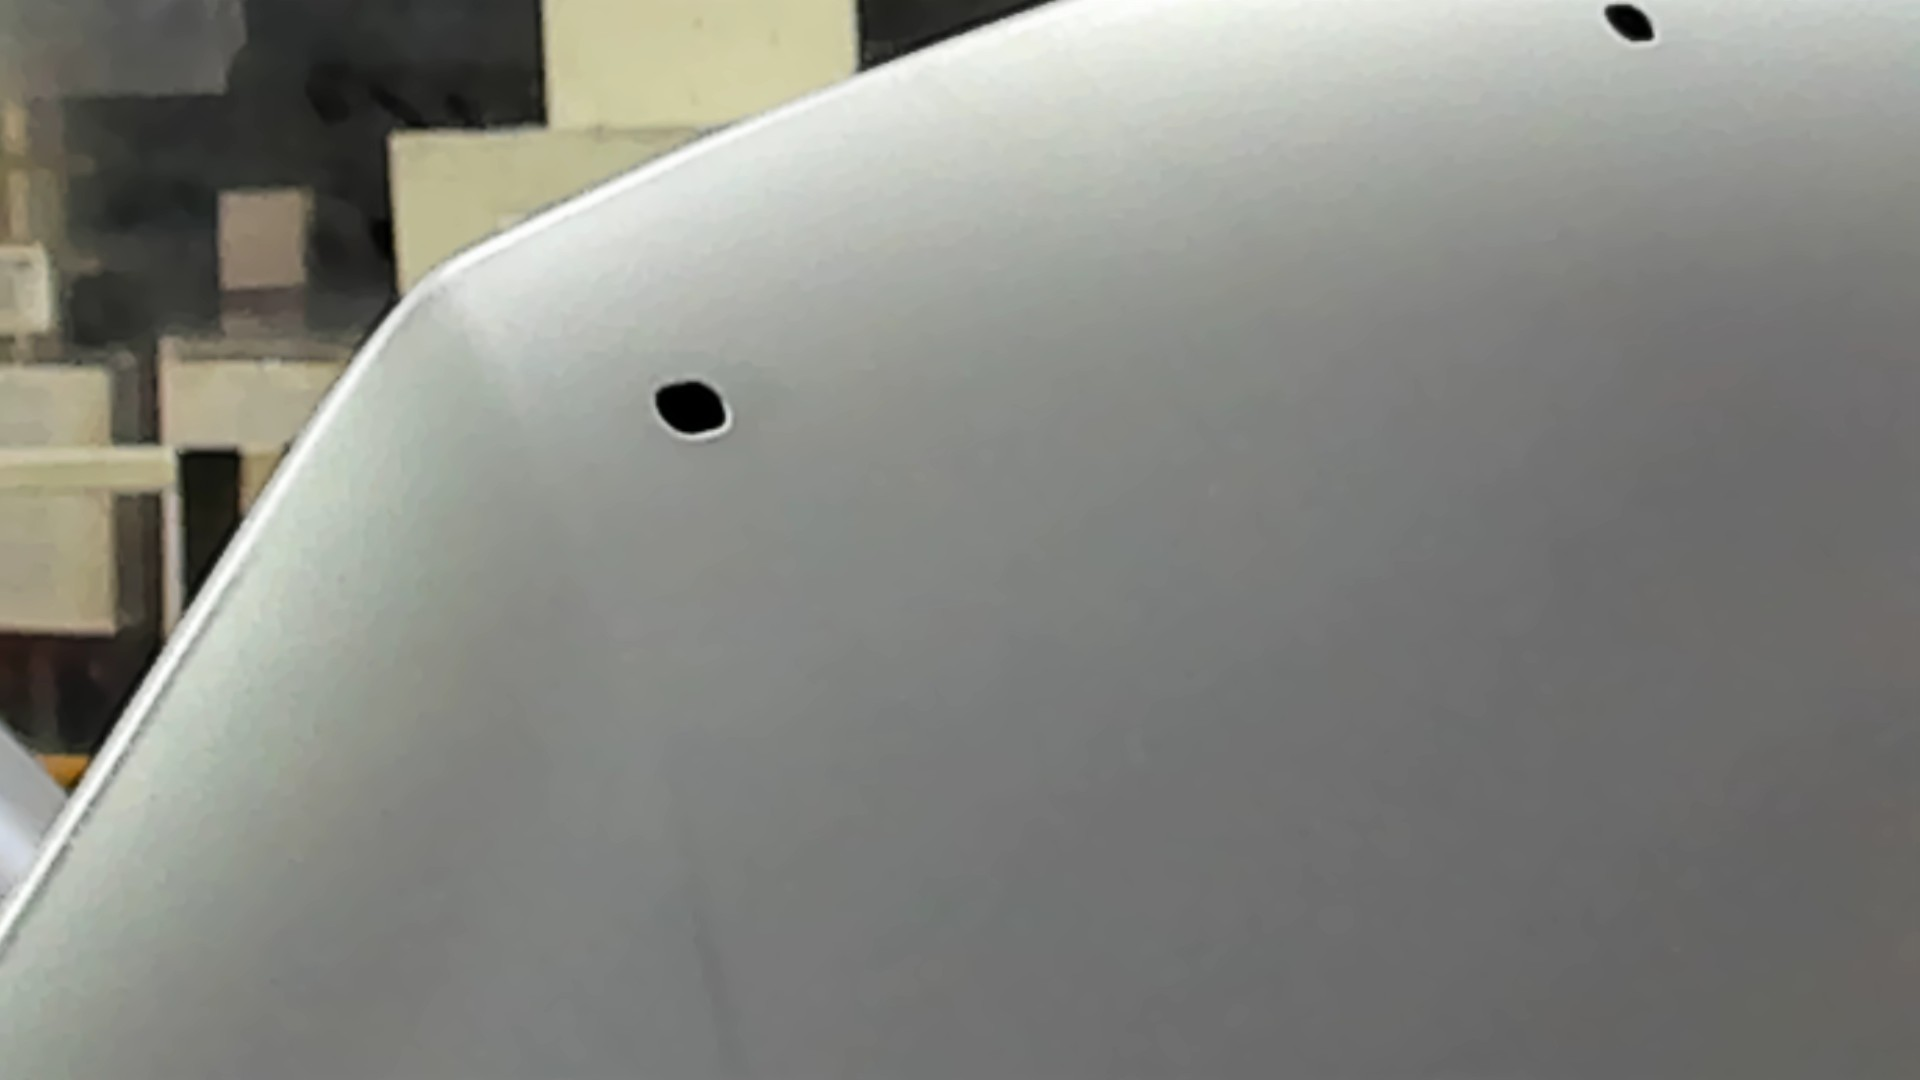amorfo: (651, 375, 732, 440), (1598, 1, 1663, 50)
